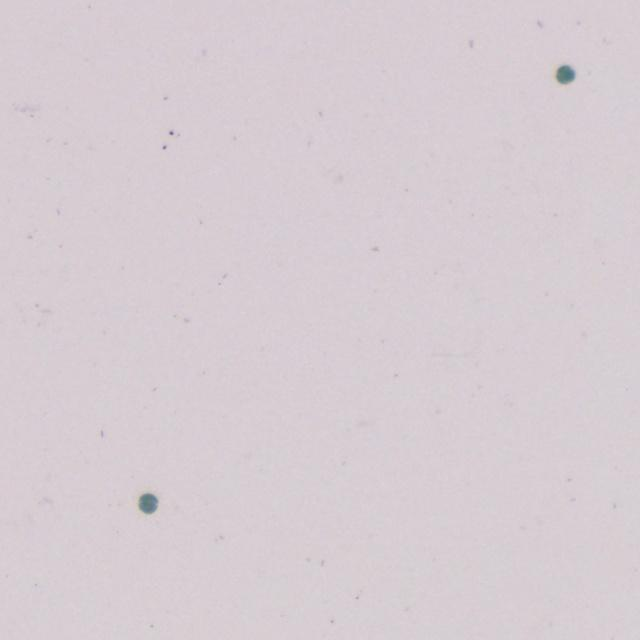non_viable: (138, 493, 158, 513), (556, 65, 575, 84)
